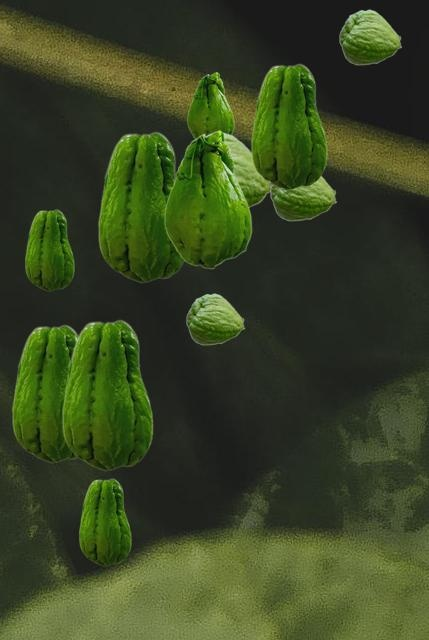sayote: (62, 319, 152, 470), (98, 131, 184, 282), (164, 130, 251, 268), (251, 63, 326, 189), (12, 324, 77, 462), (182, 132, 271, 207), (79, 478, 130, 565), (25, 209, 73, 290), (339, 9, 401, 64), (187, 72, 233, 138), (186, 293, 244, 344), (270, 176, 336, 220)
